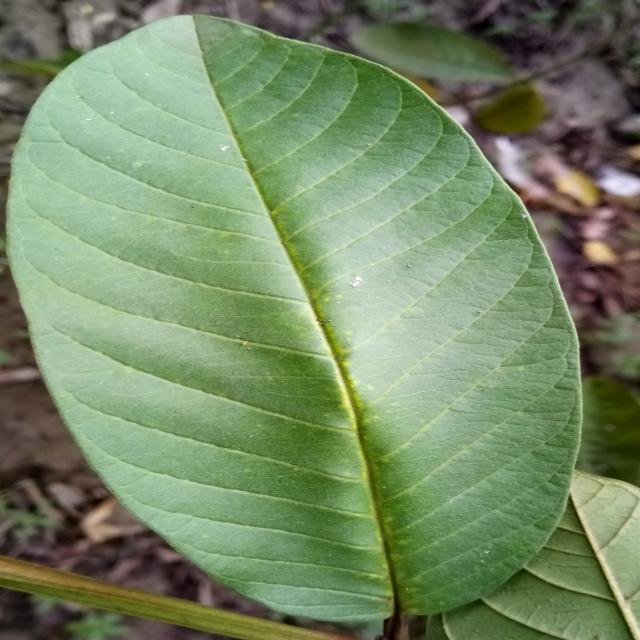Disease Free: (8, 16, 579, 620)
